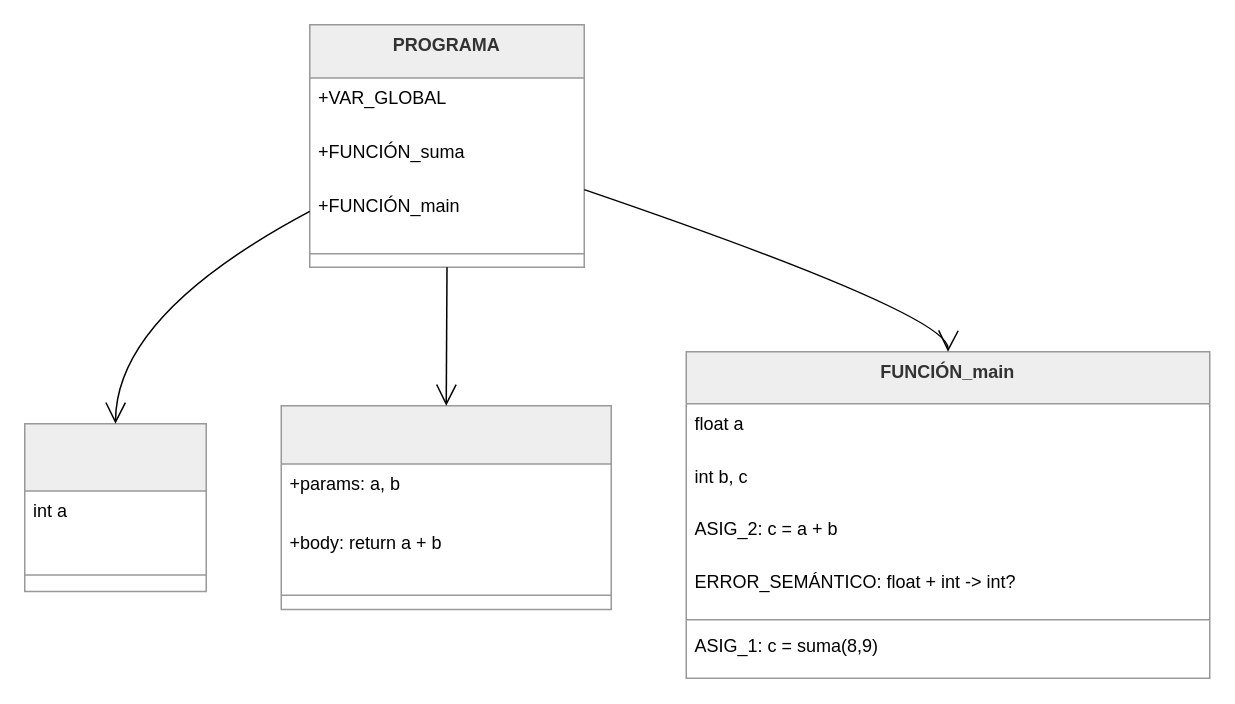
Some shapes in this 1235 by 704 pixel diagram are drawn without their labels. The box of each missing label's shape, as (x1, y1, x2, y2) in pixels:
FUNCIÓN_suma: (280, 404, 611, 610)
VAR_GLOBAL: (23, 422, 206, 591)
